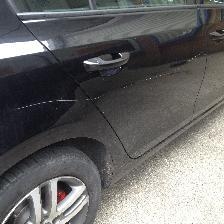door_scratch: (0, 56, 223, 132)
